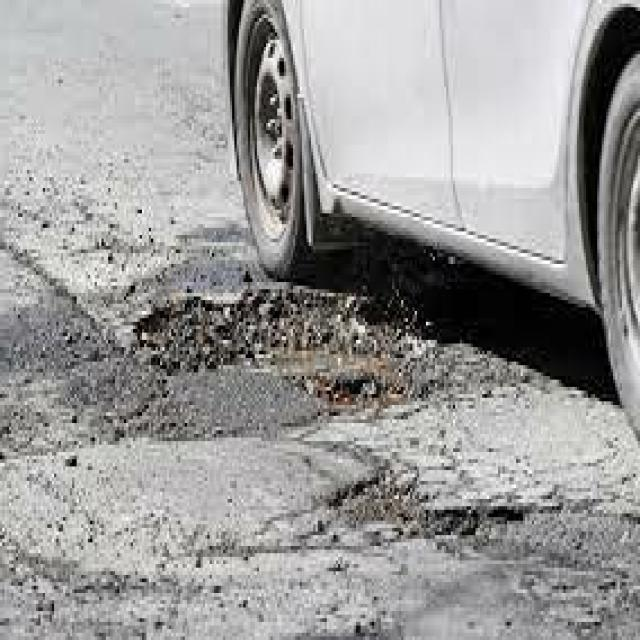pothole: (117, 224, 473, 463)
